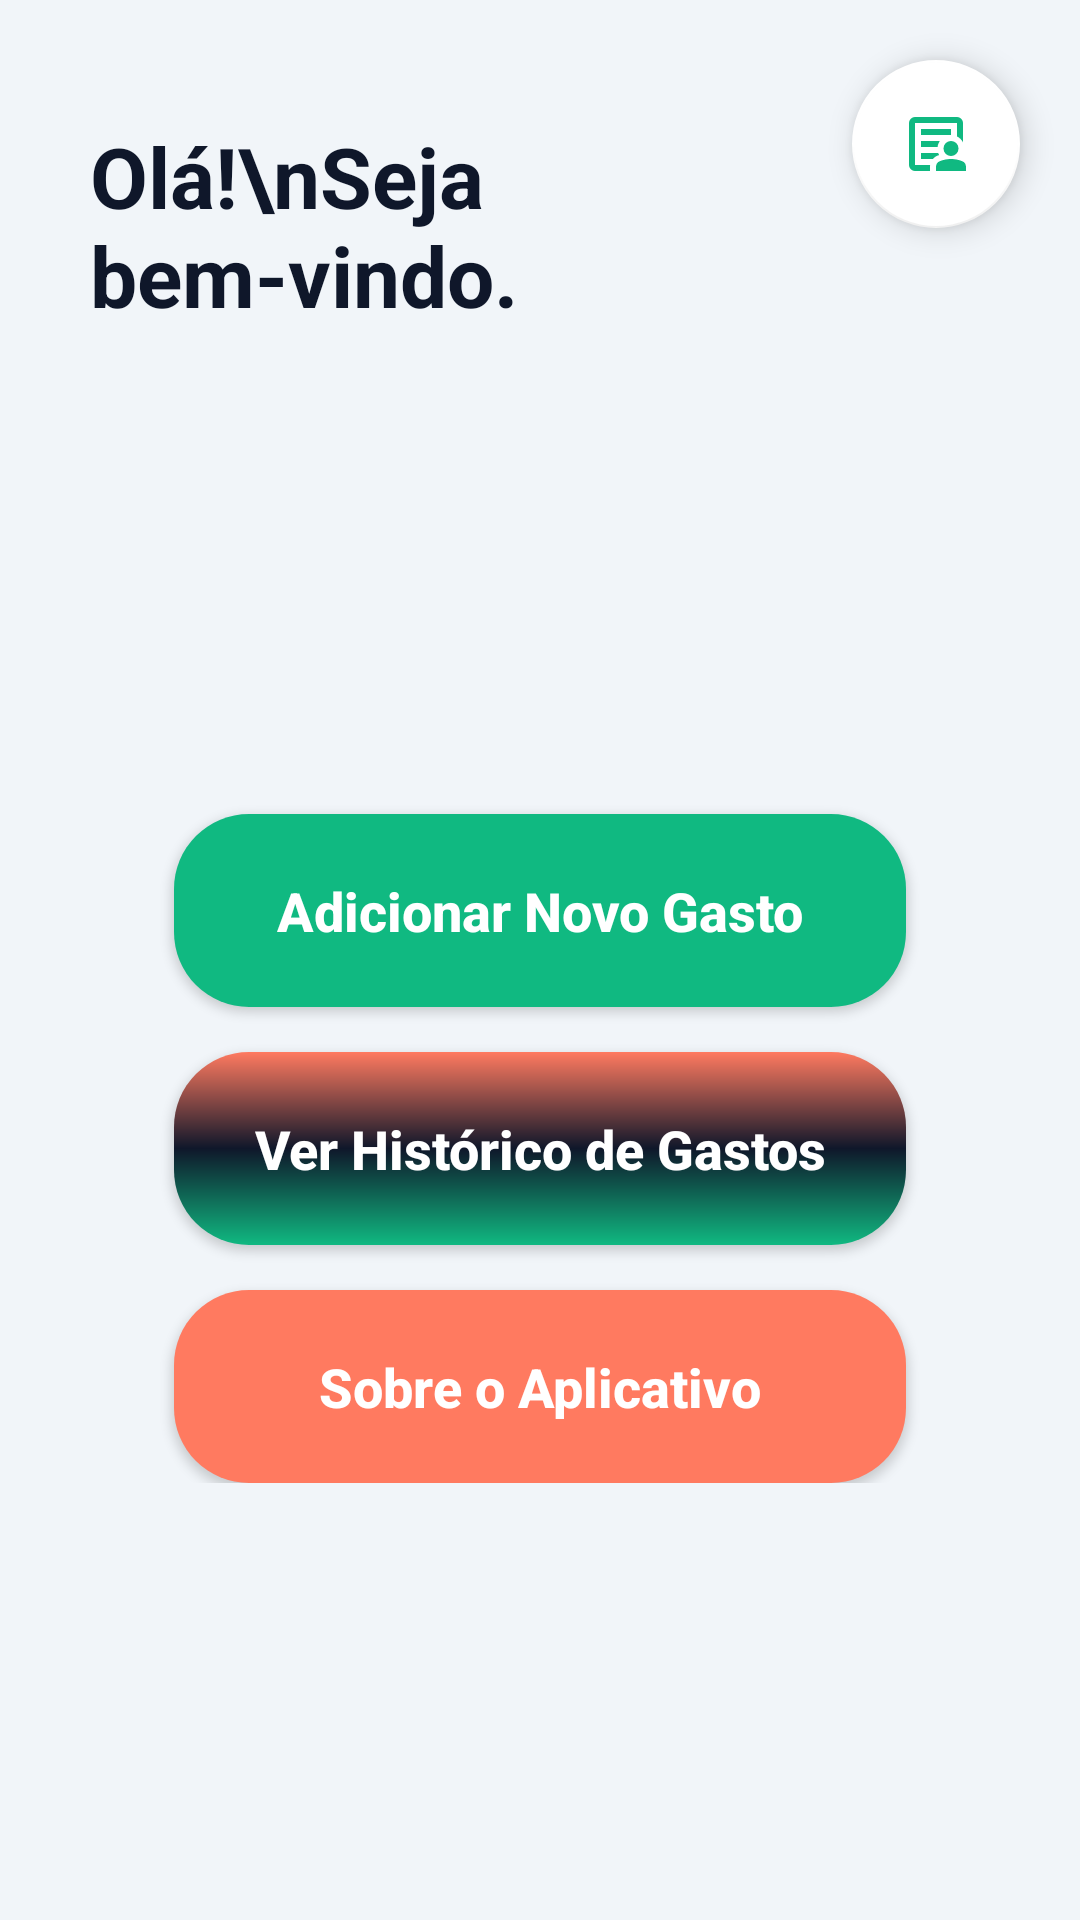

Named icons in this screenshot (1080 × 1920) and their bounding boxes, bbox=[x1, y1, x2, y2]:
Ir para o Perfil: bbox=[852, 60, 1020, 228]
